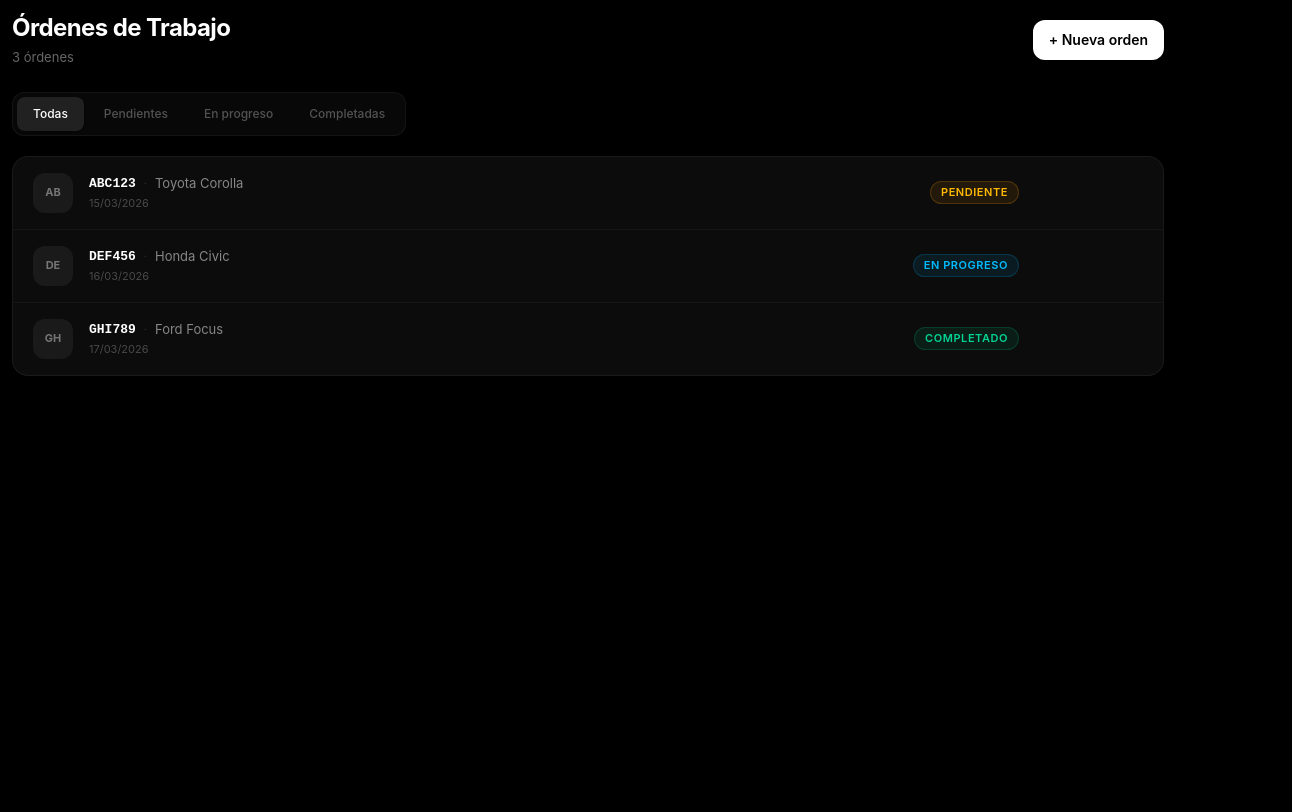
Orders integration › opens Nueva orden modal when clicking the button
This screenshot has width=1292, height=812.
Expected: the text "ABC123" is shown, [89, 174, 136, 193]
Click the button "+ Nueva orden". click: (1098,40)
box: [1033, 20, 1164, 60]
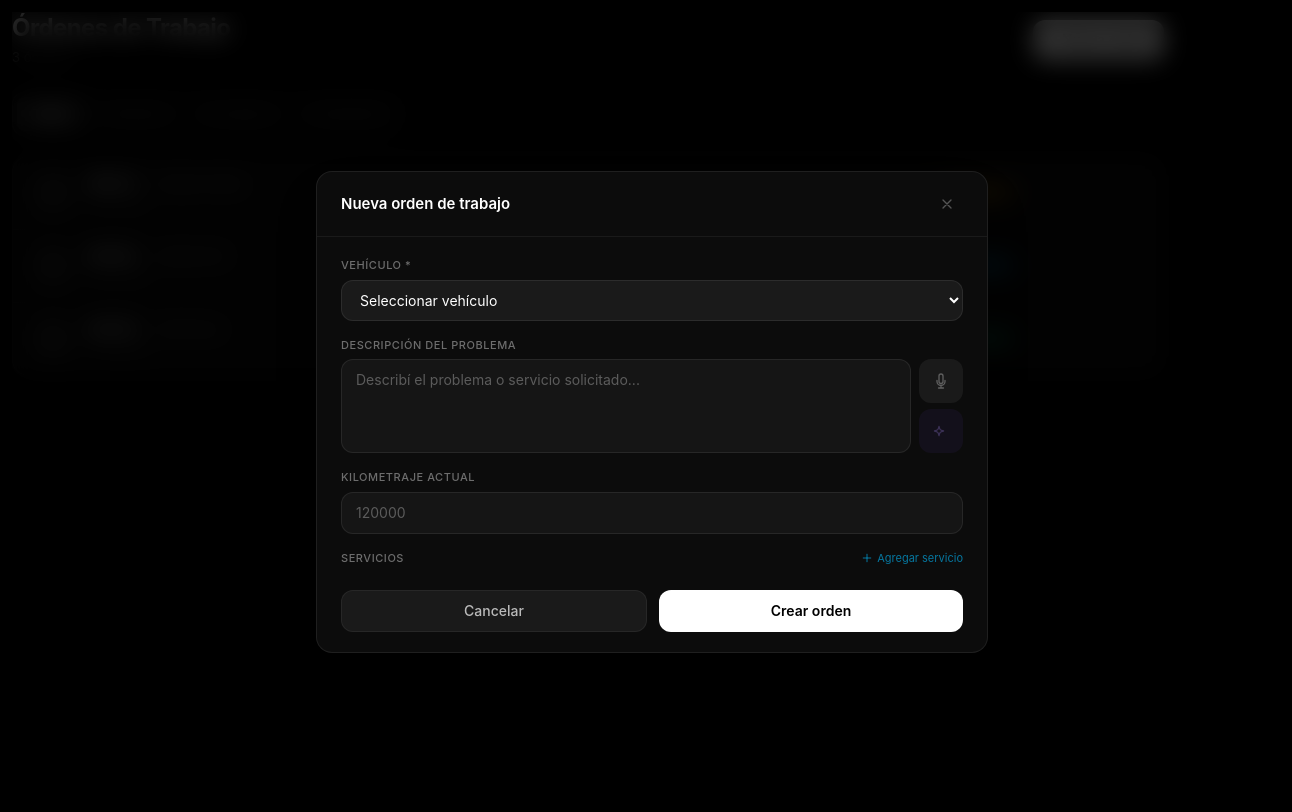
Expected: the heading "Nueva orden de trabajo" is shown, [341, 193, 510, 215]
Expected: the button "Crear orden" is shown, [659, 590, 963, 632]
